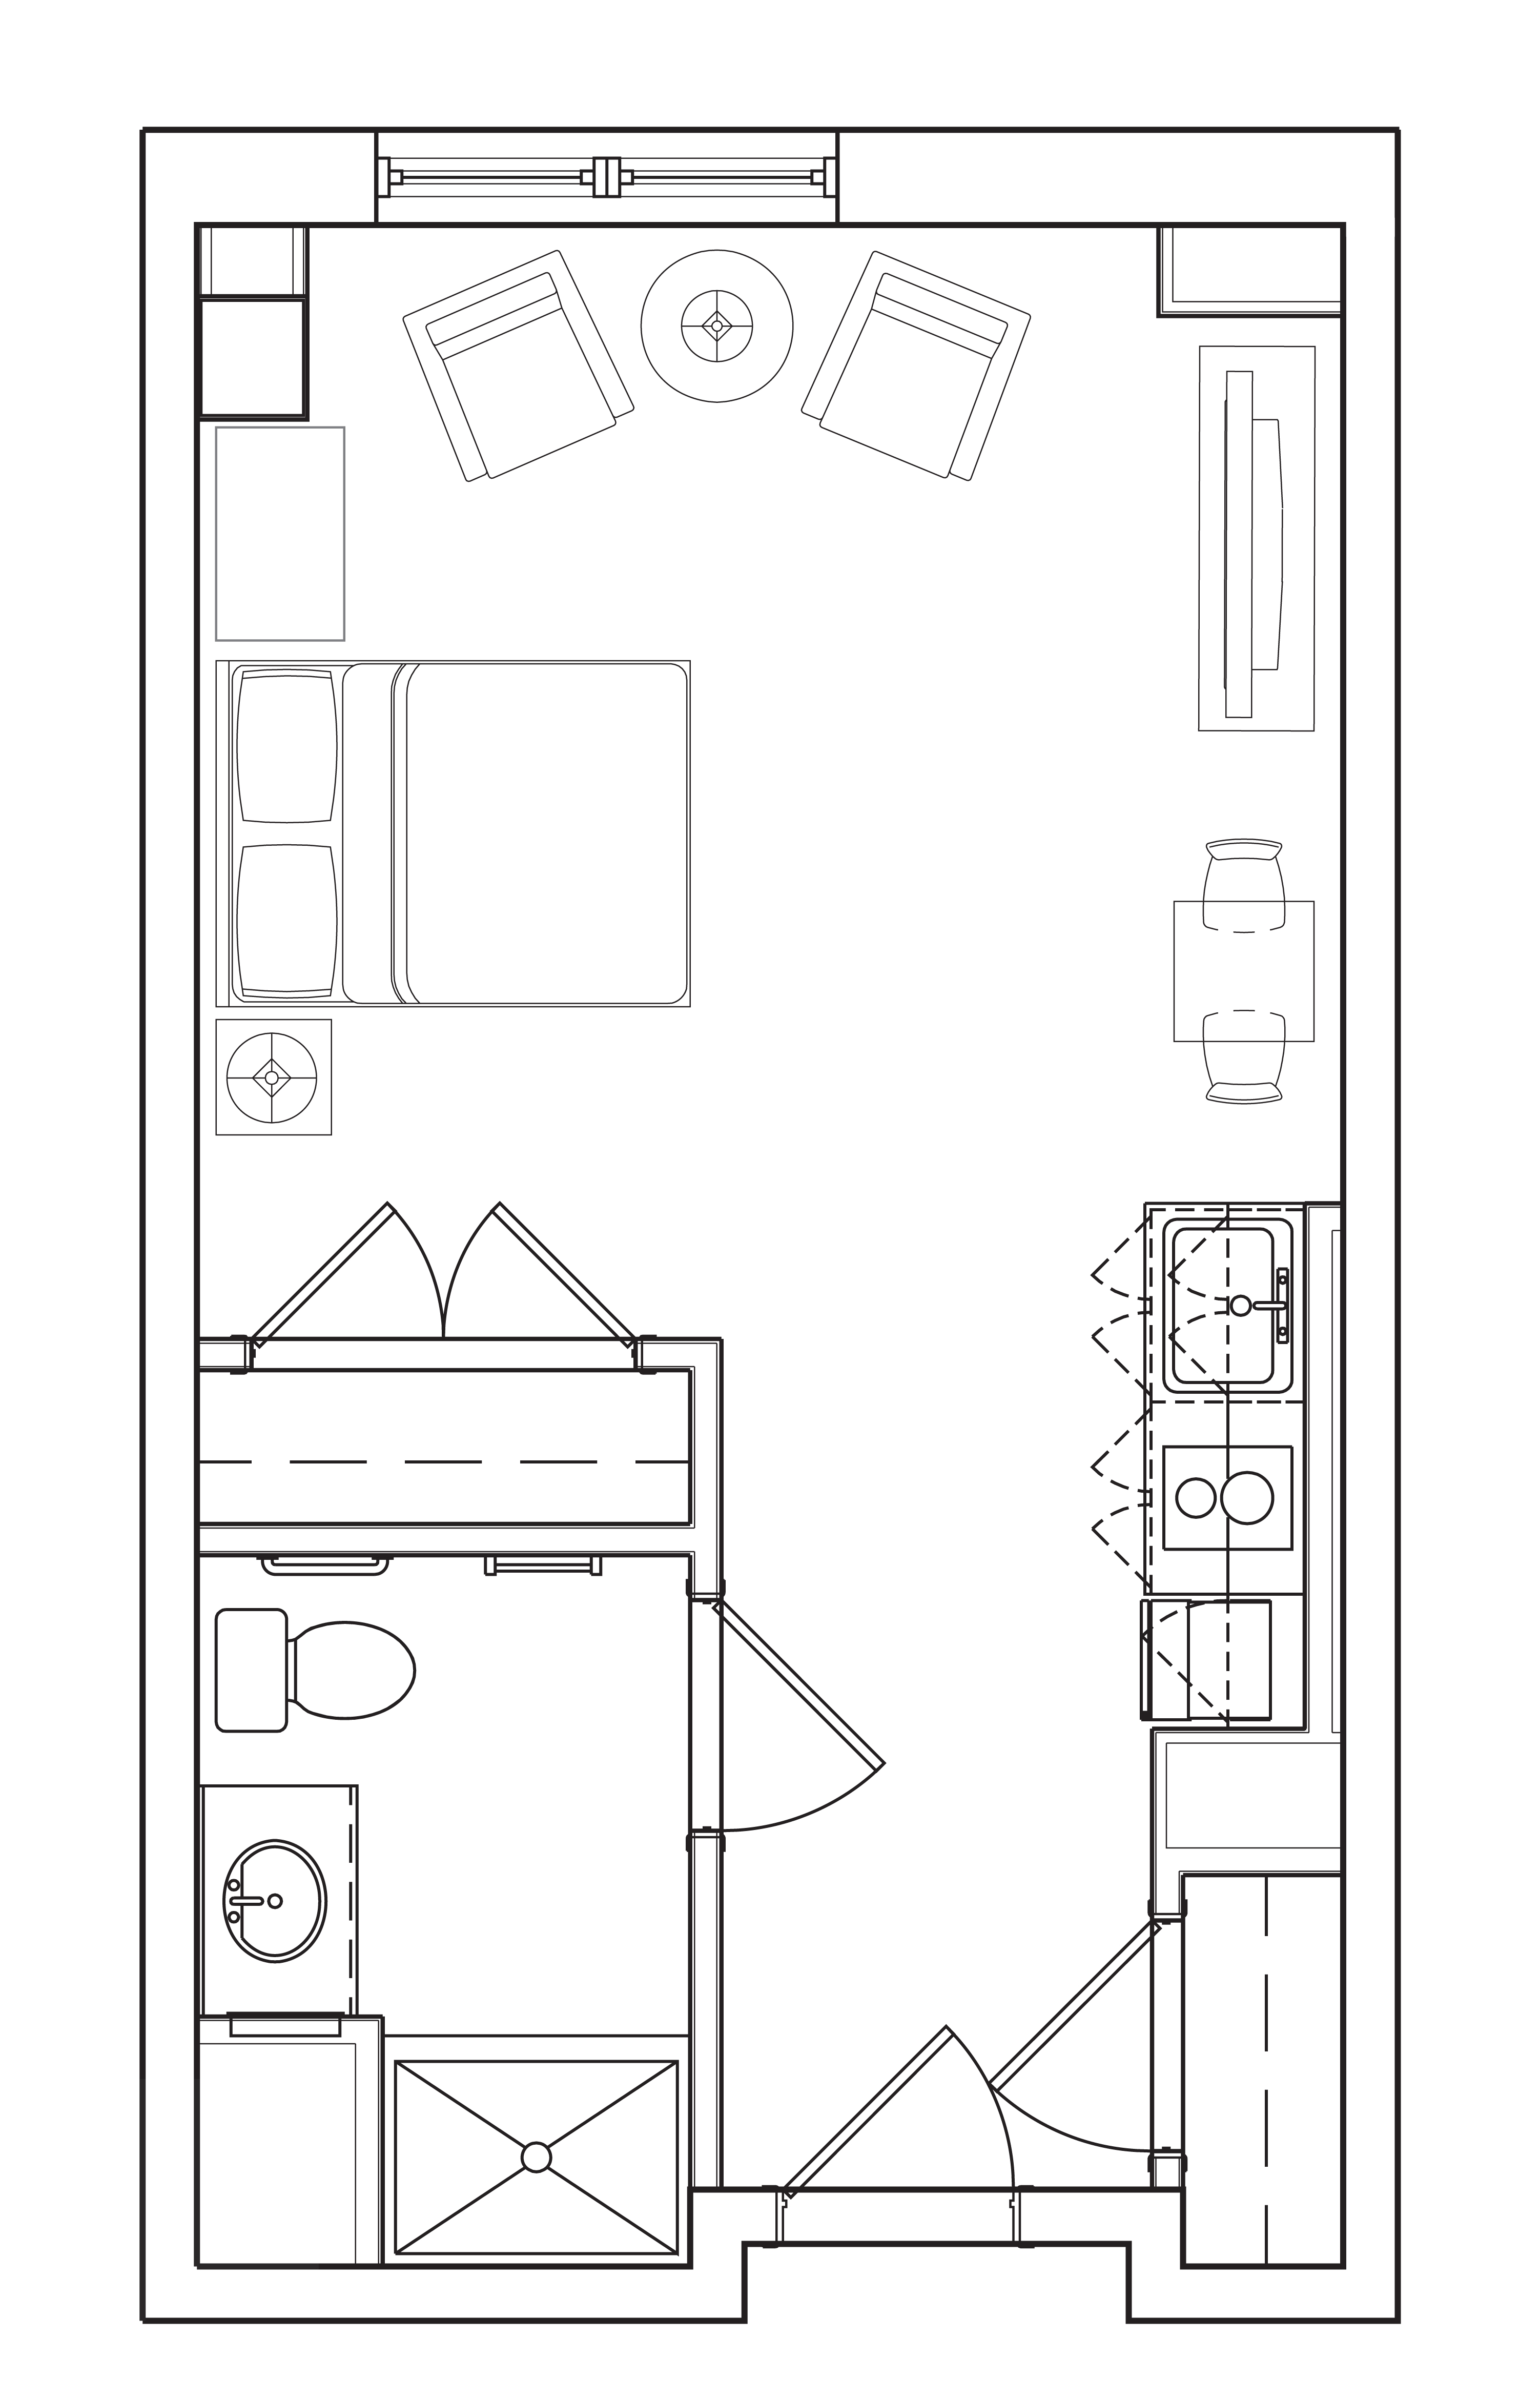window: (376, 122, 837, 234)
